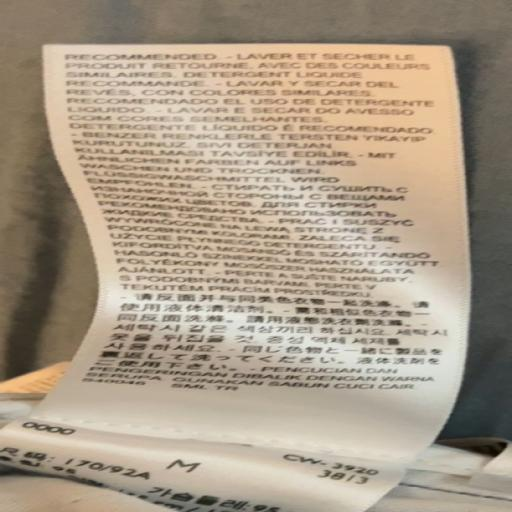paper: (18, 23, 512, 512)
